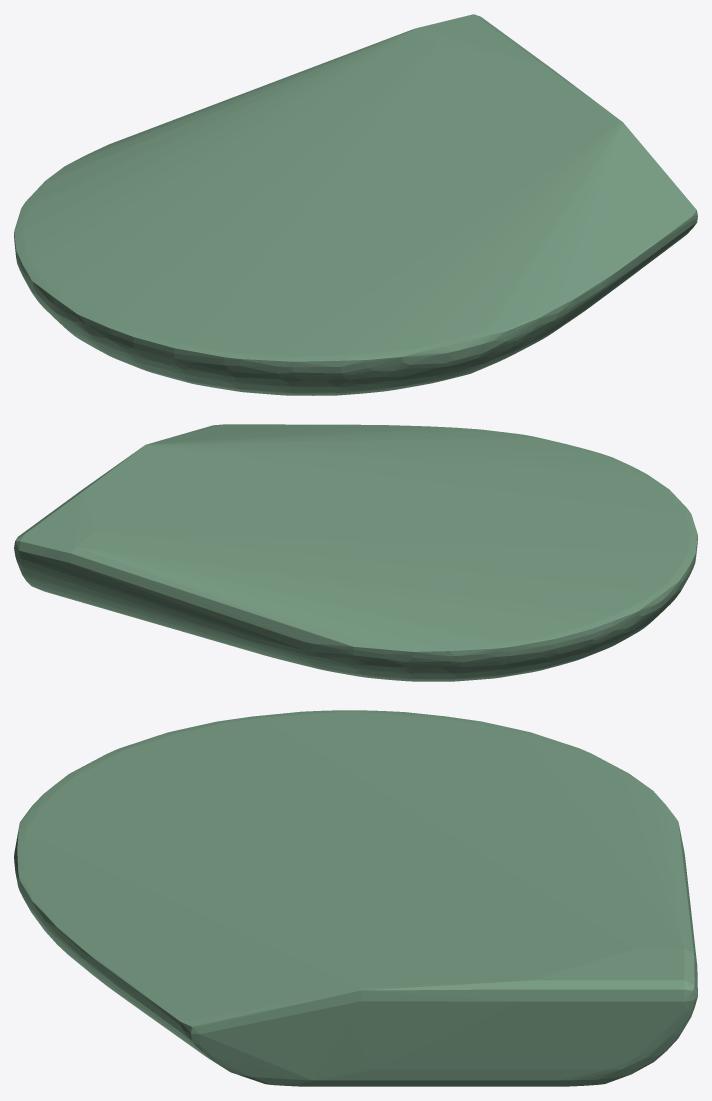
File: right_elbow_link_part_0.obj
3 views of the same model, one above another, from view 1: azimuth 30°, elevation 25°; view 2: azimuth 150°, elevation 25°; view 3: azimuth 270°, elevation 25° (orthographic). The views are drawn at different scales.
Bounding box in the file's own units: 0.0901 × 0.0143 × 0.0816.
